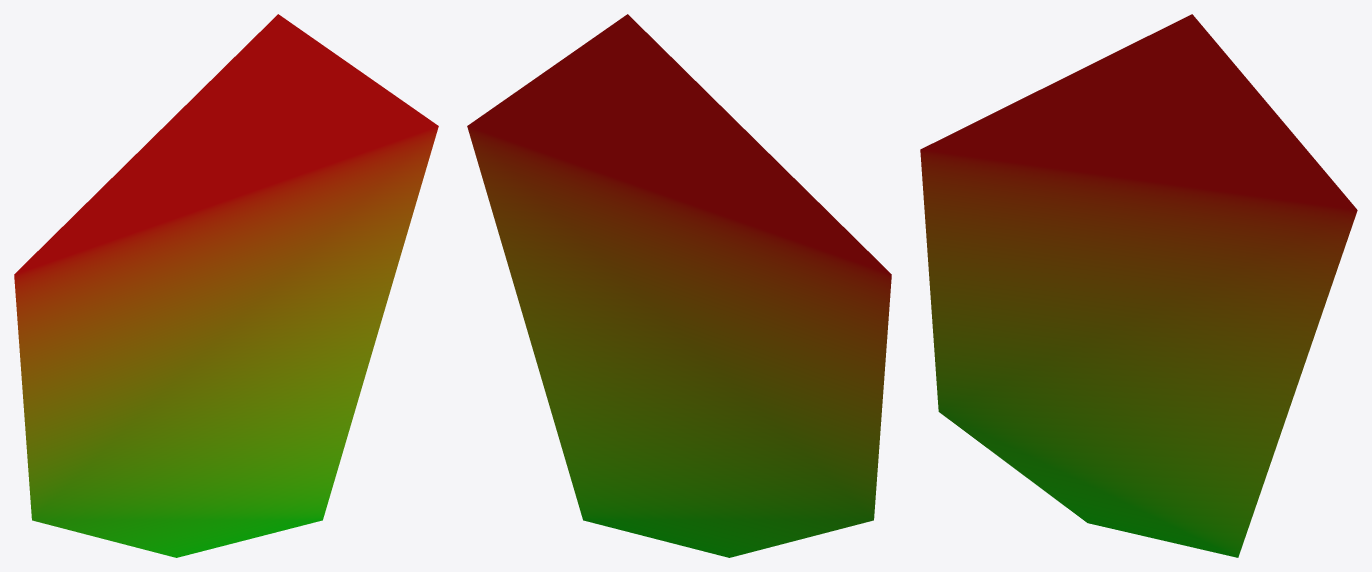
Rendered from White Ramping Fumitory_LOD4_Var5_ti4efc3ia.fbx.
3 views of the same model, side by side, from view 1: azimuth 30°, elevation 25°; view 2: azimuth 150°, elevation 25°; view 3: azimuth 330°, elevation 25° (orthographic). The views are drawn at different scales.
Parts seen in each view (by area): view 1: _1535_Var5_LOD4; view 2: _1535_Var5_LOD4; view 3: _1535_Var5_LOD4.
Part boxes in pixels (left/top/right/bottom): _1535_Var5_LOD4: left=14, top=14, right=438, bottom=557; _1535_Var5_LOD4: left=467, top=14, right=891, bottom=557; _1535_Var5_LOD4: left=920, top=14, right=1357, bottom=557.
Size of the model in its own units: 35.24 by 41.16 by 1.91e-06.
